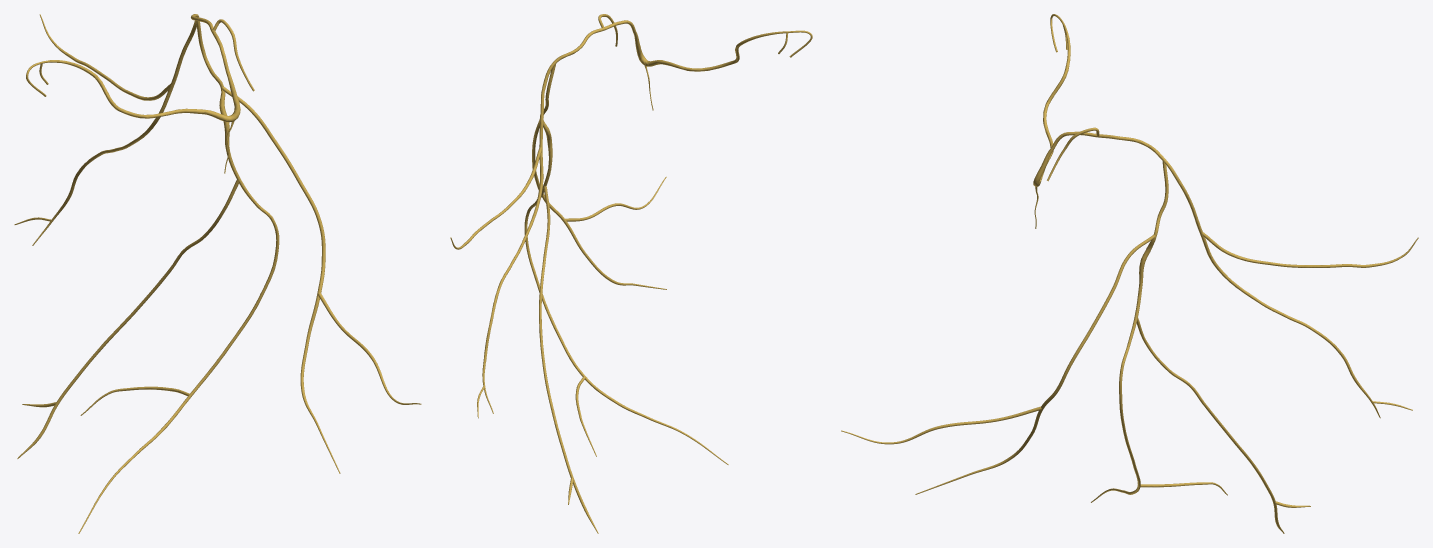
The picture shows the model from 3 angles, left to right: view 1: azimuth 30°, elevation 25°; view 2: azimuth 150°, elevation 25°; view 3: azimuth 270°, elevation 25°; orthographic projection. The views are drawn at different scales.
Visible parts, largest first — view 1: 左侧面神经; view 2: 左侧面神经; view 3: 左侧面神经.
Boxes of the visible parts, box(x1,y1,x2,y2) form: 左侧面神经: box(14, 14, 421, 533); 左侧面神经: box(450, 14, 812, 533); 左侧面神经: box(841, 14, 1418, 533).
Size of the model in its own units: 0.0964 by 0.1535 by 0.1711.
